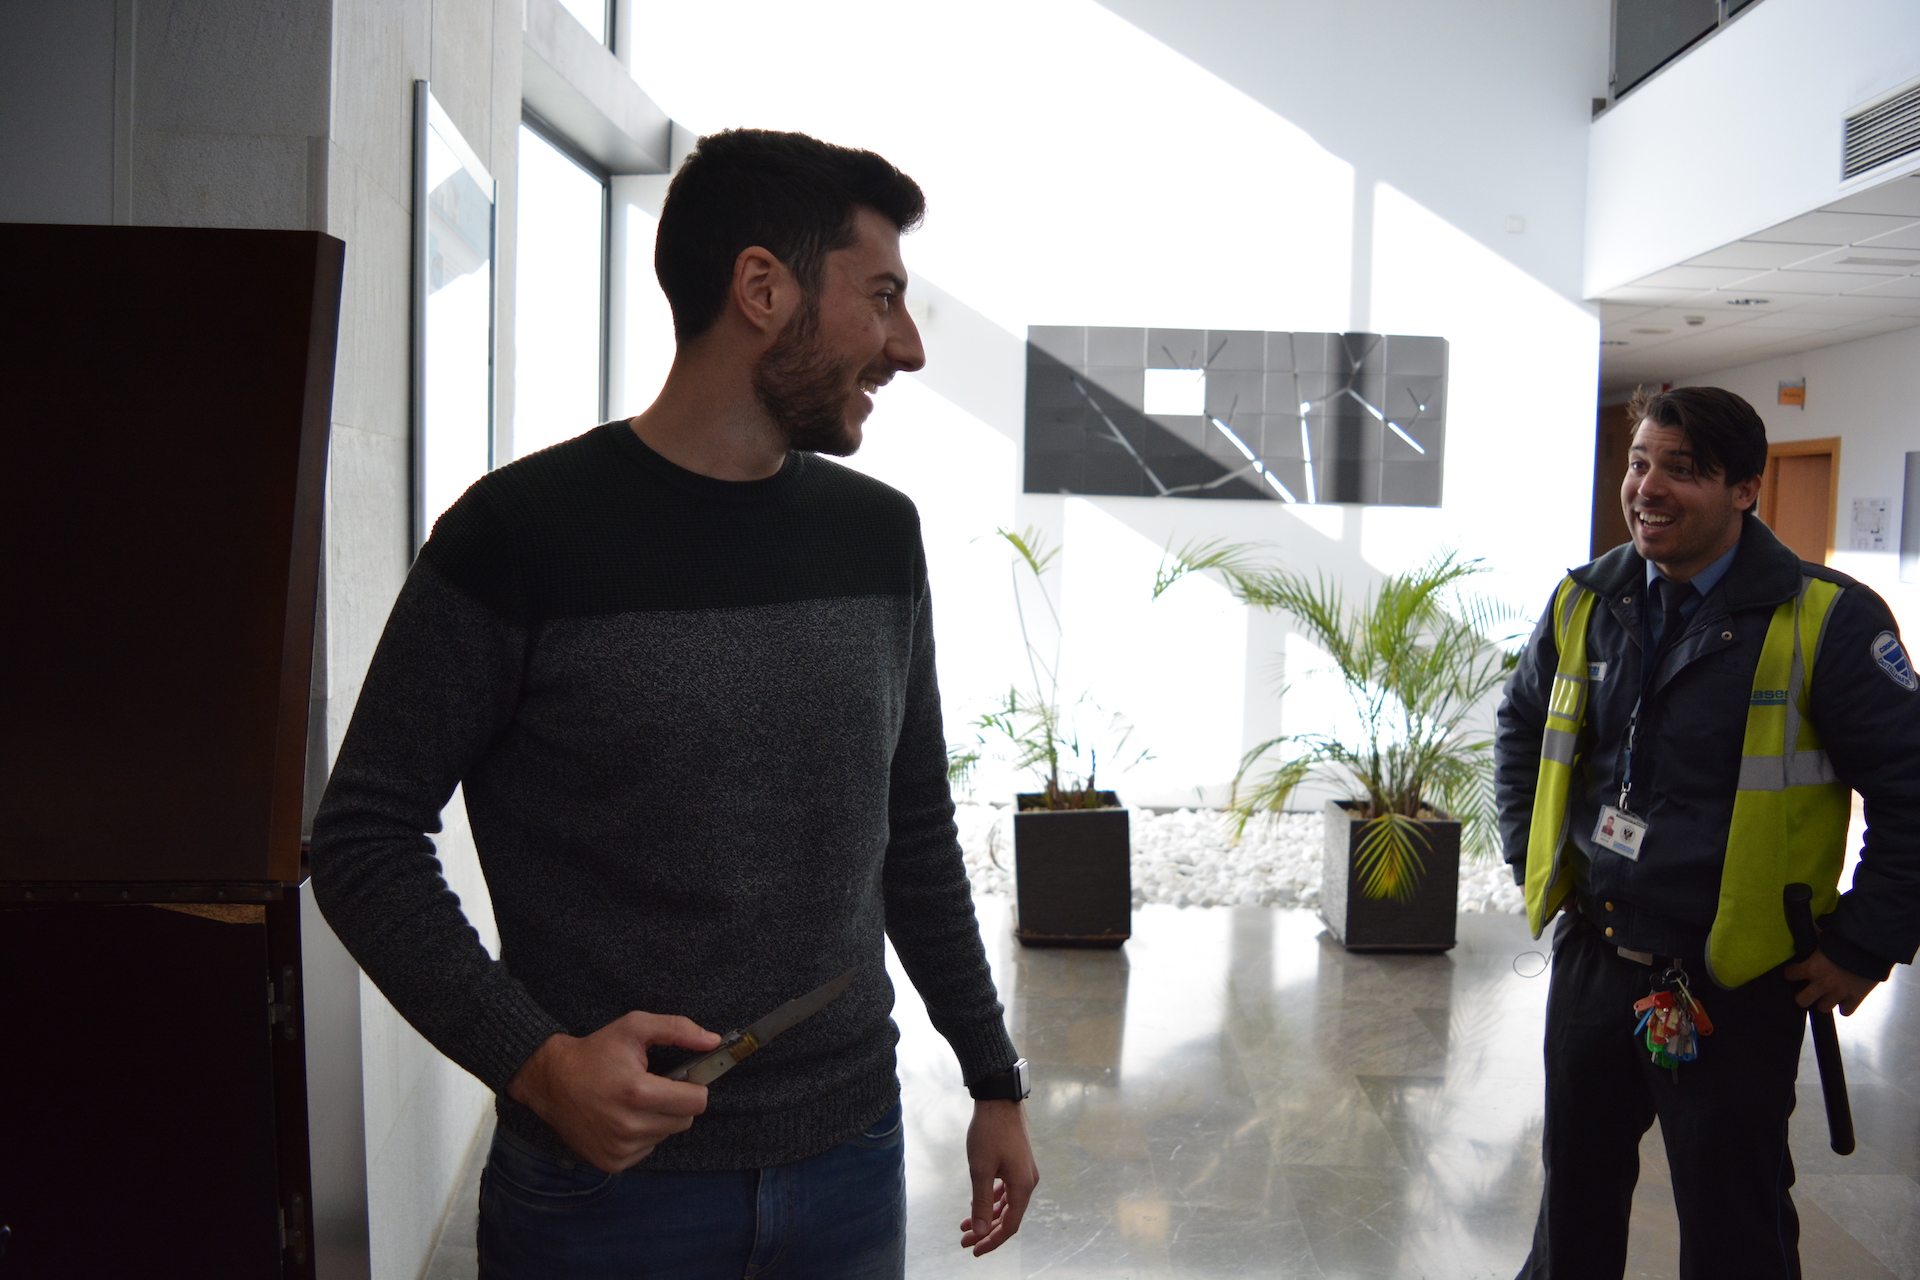knife: (649, 959, 869, 1099)
